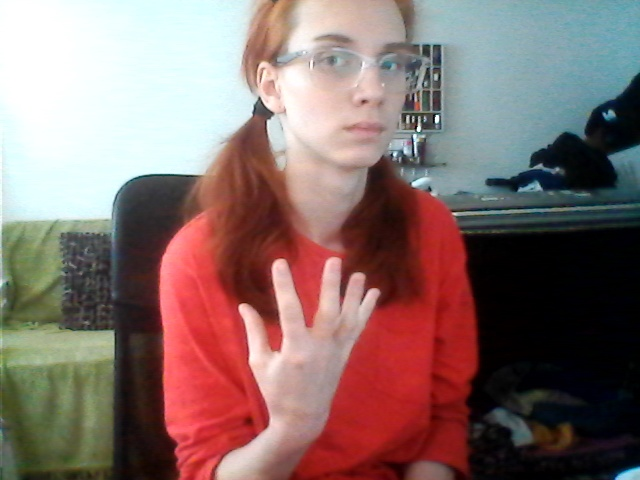kedy: (218, 256, 397, 426)
